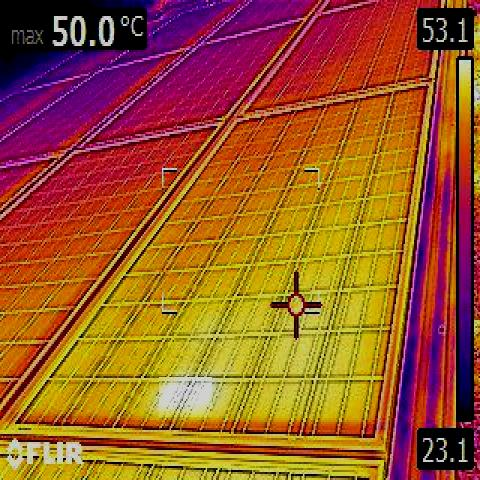fault: (159, 378, 212, 418)
